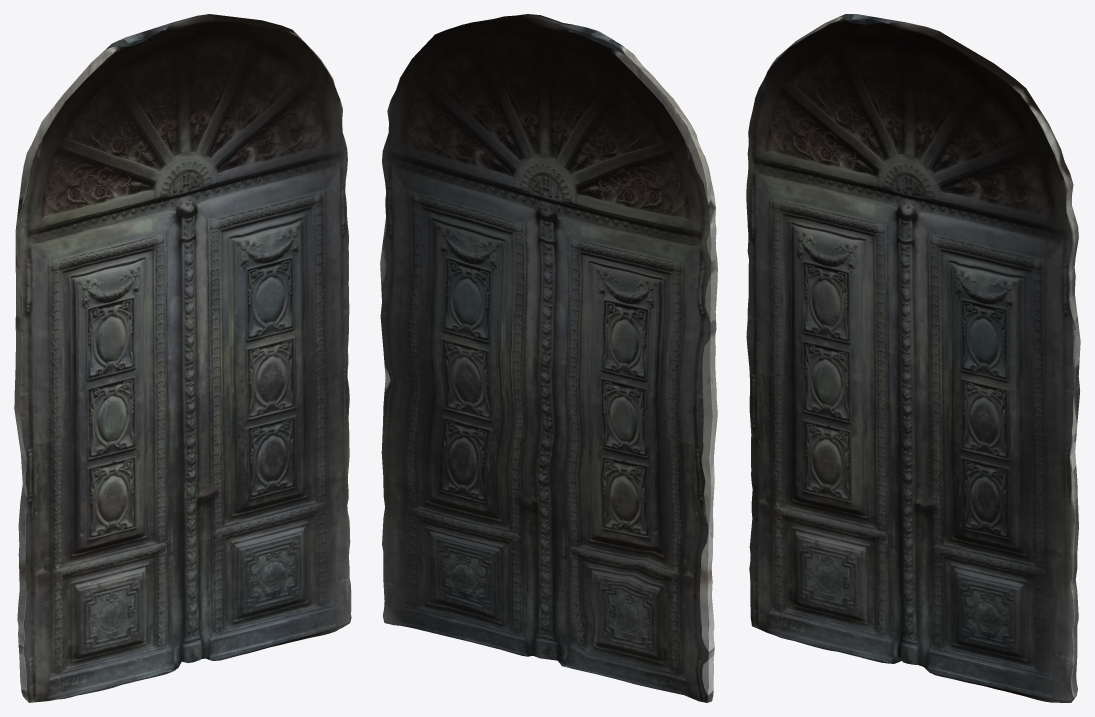
Rendered from entrance.glb.
3 renders of one model, left to right at view 1: azimuth 30°, elevation 25°; view 2: azimuth 150°, elevation 25°; view 3: azimuth 330°, elevation 25°, orthographic.
Visible parts, largest first — view 1: Object_2; view 2: Object_2; view 3: Object_2.
Part boxes in pixels (bbox=[...]): Object_2: bbox=[14, 14, 351, 702]; Object_2: bbox=[380, 14, 717, 702]; Object_2: bbox=[746, 14, 1080, 702].
Size of the model in its own units: 15.71 by 29.15 by 1.01.
1 material, 1 textured.
